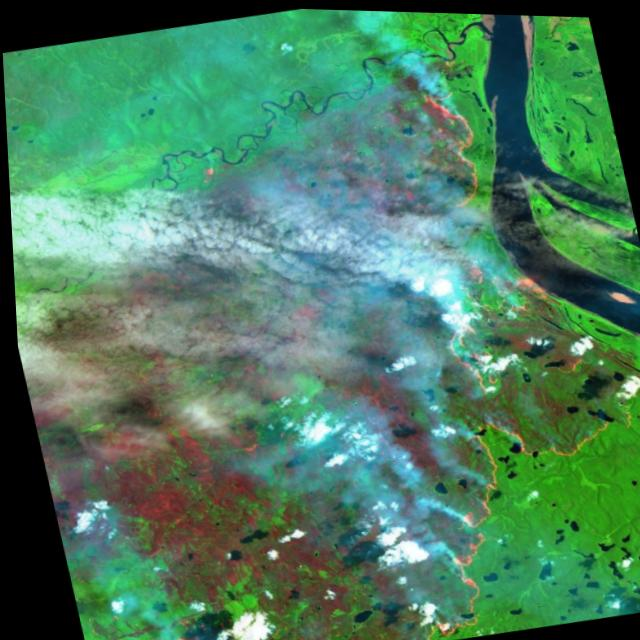fire: (1, 22, 640, 640)
